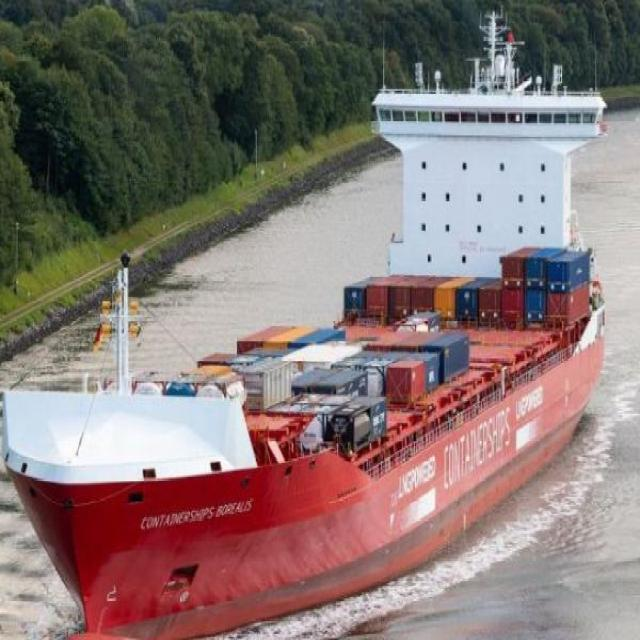Container Ship: (4, 7, 610, 640)
